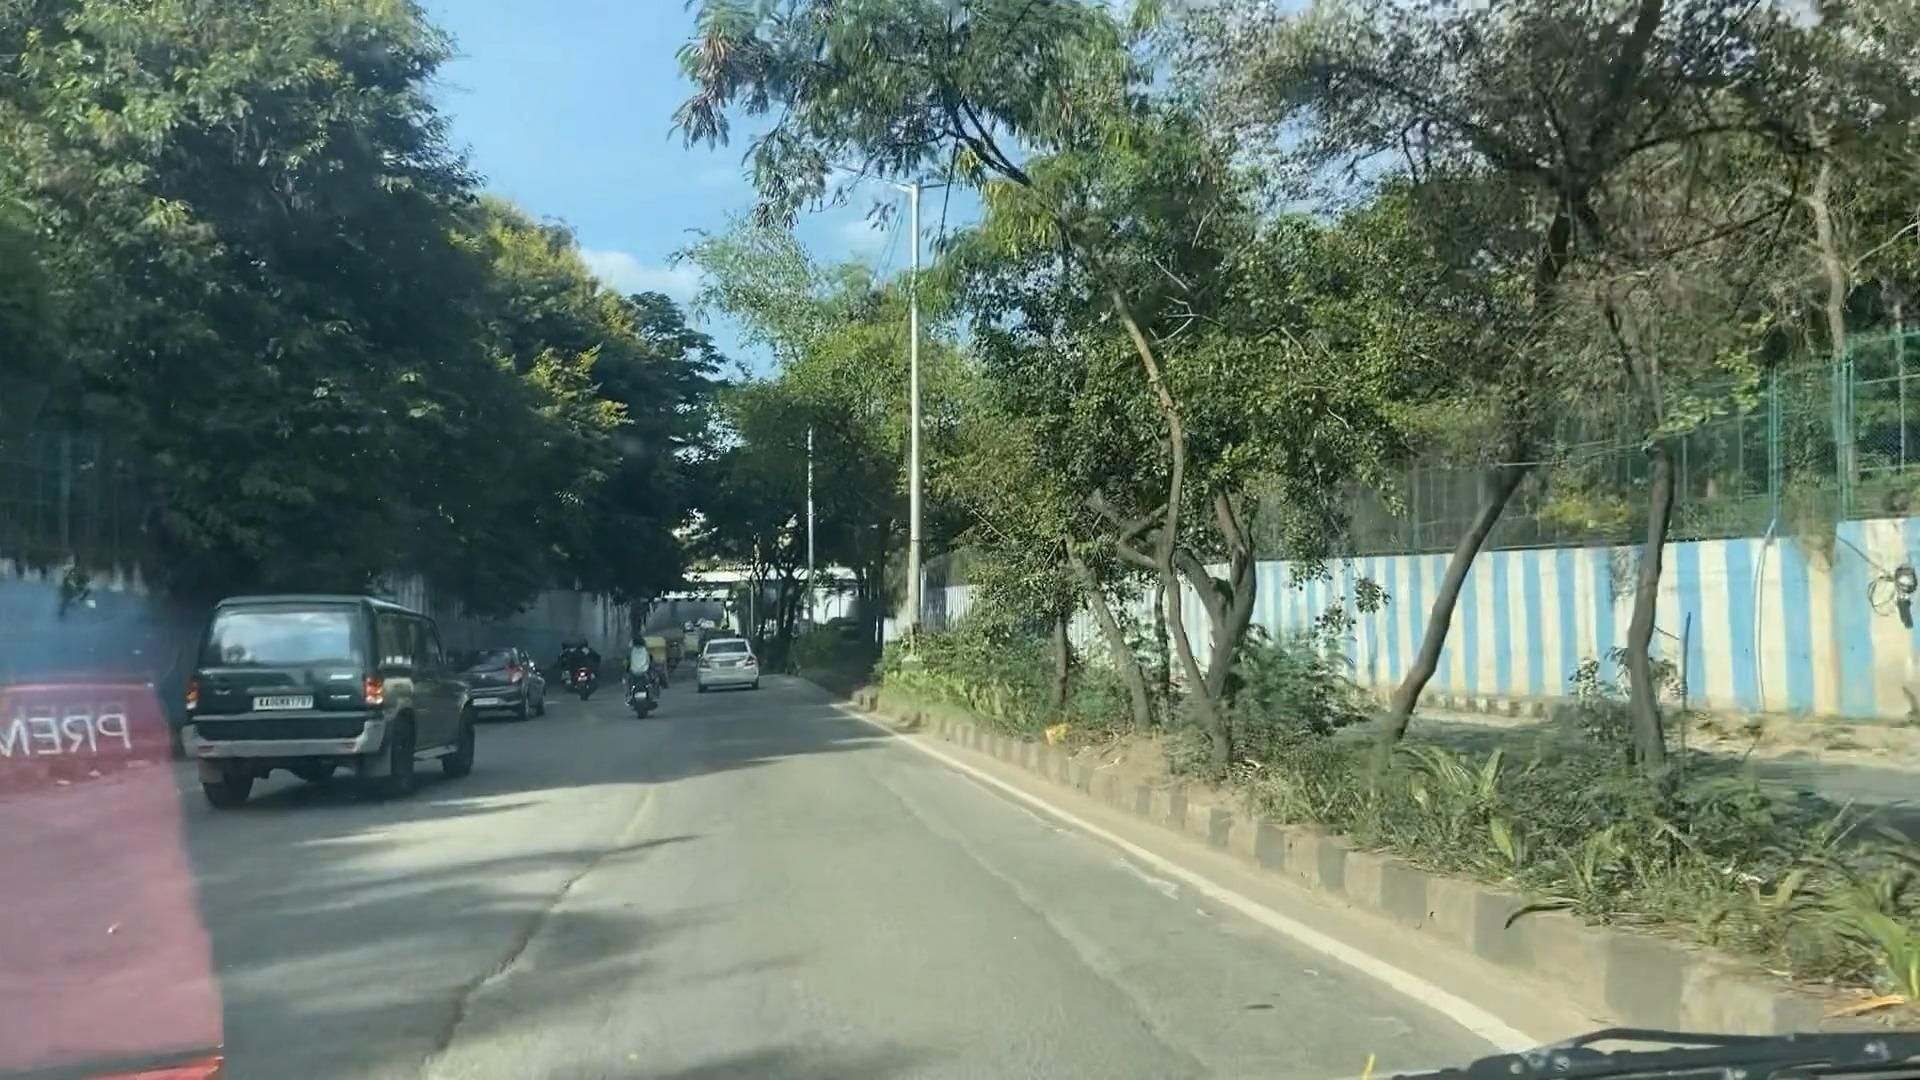LMV: (195, 607, 452, 779), (624, 636, 667, 711), (698, 634, 754, 687)
RoadDamages: (414, 760, 669, 1058), (873, 770, 1131, 1022)
